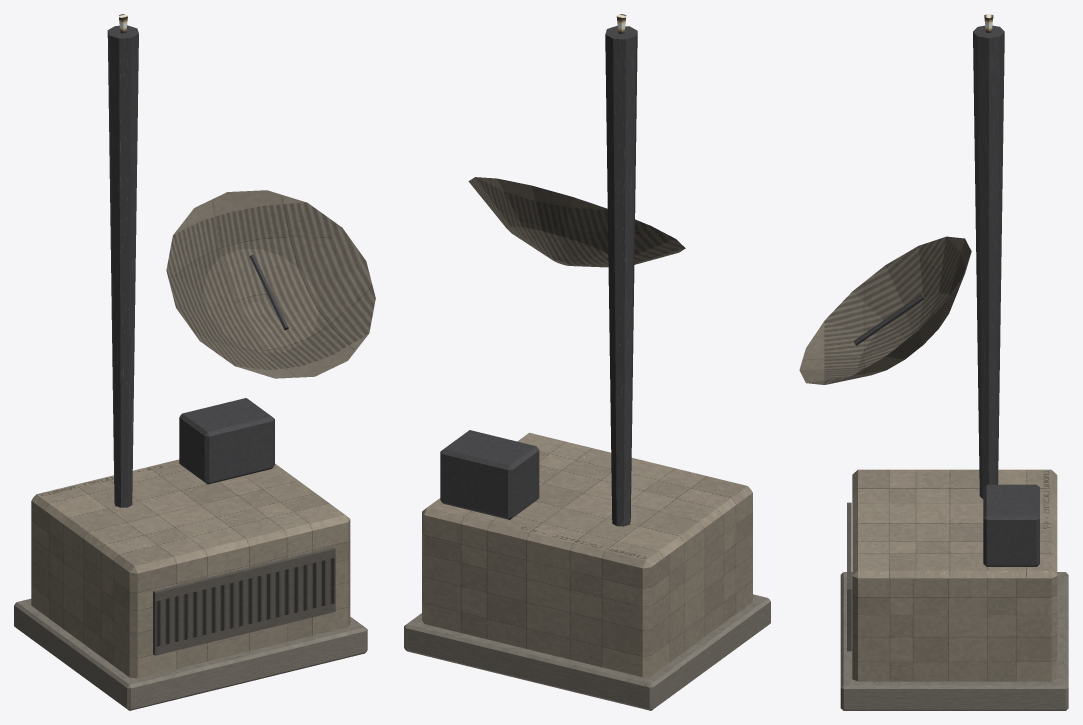
File: comms_relay.obj
The picture shows the model from 3 angles, left to right: view 1: azimuth 30°, elevation 25°; view 2: azimuth 150°, elevation 25°; view 3: azimuth 270°, elevation 25°; orthographic projection. The views are drawn at different scales.
Parts seen in each view (by area): view 1: comms_relay; view 2: comms_relay; view 3: comms_relay.
Boxes of the visible parts, bbox=[...] form: comms_relay: bbox=[14, 14, 375, 710]; comms_relay: bbox=[404, 14, 770, 710]; comms_relay: bbox=[799, 14, 1068, 710].
Bounding box in the file's own units: 5.2 × 11.9 × 4.73.
1 material, 1 textured.
